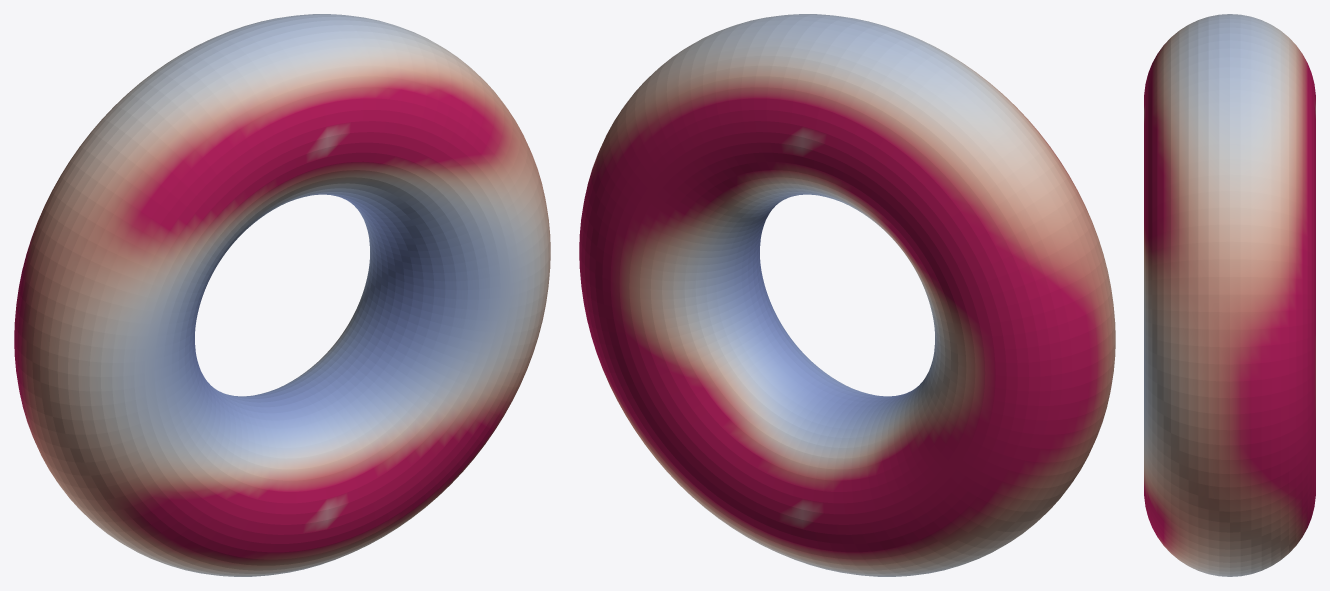
The picture shows the model from 3 angles, left to right: view 1: azimuth 30°, elevation 25°; view 2: azimuth 150°, elevation 25°; view 3: azimuth 270°, elevation 25°; orthographic projection. The views are drawn at different scales.
Parts seen in each view (by area): view 1: world; view 2: world; view 3: world.
Part boxes in pixels (<box>): world: <box>14,14,550,576</box>; world: <box>579,14,1115,576</box>; world: <box>1144,14,1315,576</box>.
Size of the model in its own units: 24 by 24 by 7.32.
